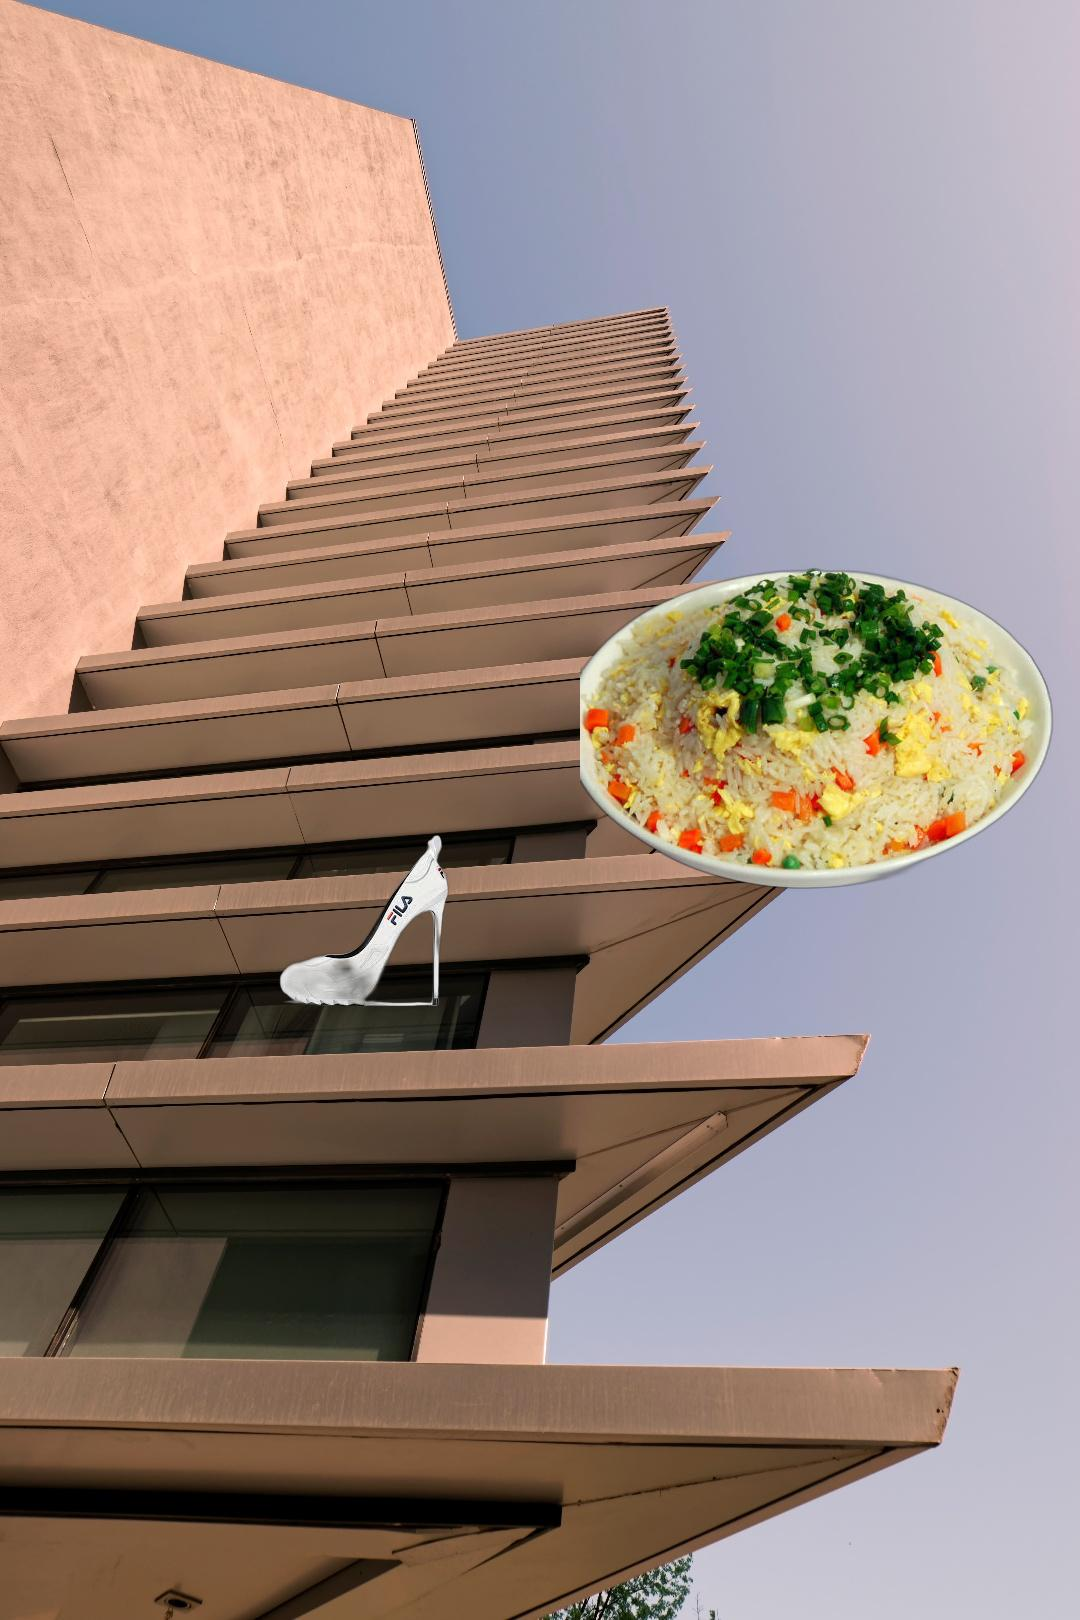biological: (580, 565, 1080, 892)
shoes: (256, 832, 451, 1041)
